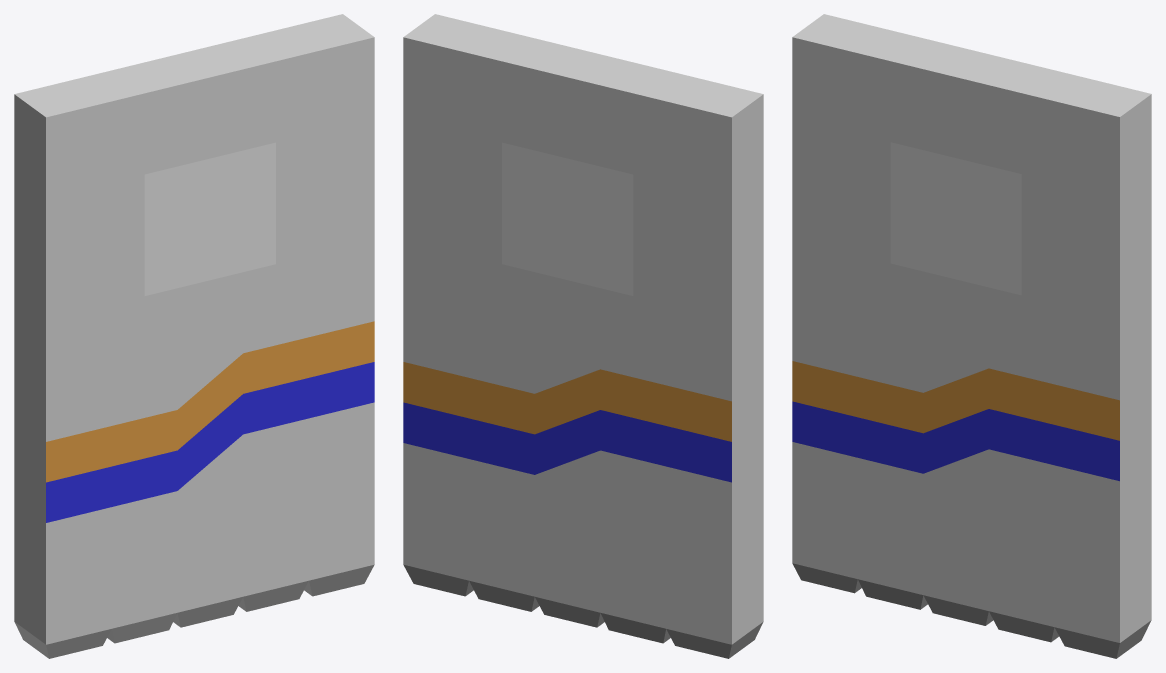
The model's file is Puerta.fbx.
3 views of the same model, side by side, from view 1: azimuth 30°, elevation 25°; view 2: azimuth 150°, elevation 25°; view 3: azimuth 330°, elevation 25° (orthographic).
Parts seen in each view (by area): view 1: Puerta; view 2: Puerta; view 3: Puerta.
Part boxes in pixels (bbox=[...]): Puerta: bbox=[14, 14, 374, 658]; Puerta: bbox=[403, 14, 763, 658]; Puerta: bbox=[792, 14, 1151, 658].
Size of the model in its own units: 135 by 215 by 22.66.
